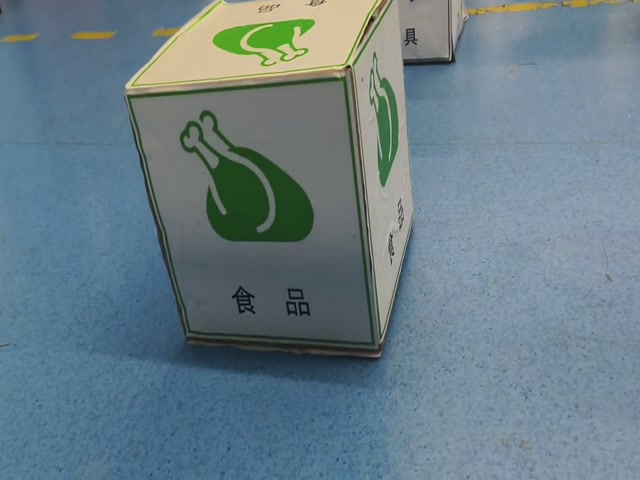Cube_food: (129, 0, 387, 89)
